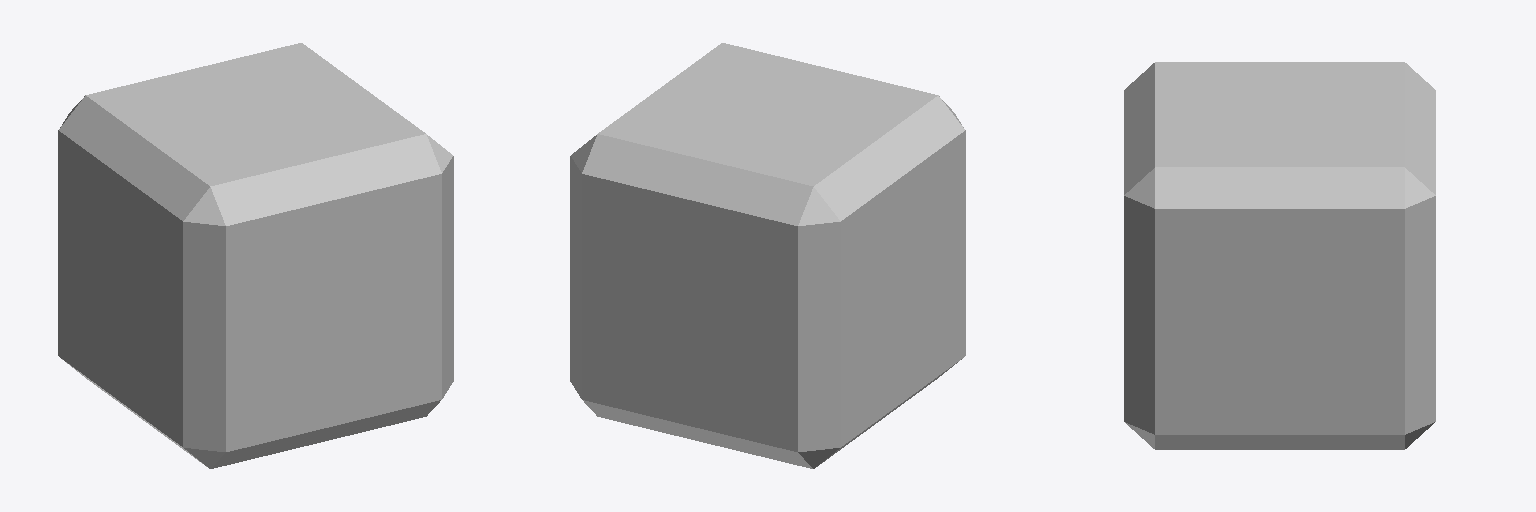
File: roundedCube.obj
3 views of the same model, side by side, from view 1: azimuth 30°, elevation 25°; view 2: azimuth 150°, elevation 25°; view 3: azimuth 270°, elevation 25° (orthographic).
Parts seen in each view (by area): view 1: pCube1; view 2: pCube1; view 3: pCube1.
Boxes of the visible parts, x1,y1,x2,y2 form: pCube1: [58, 43, 453, 468]; pCube1: [570, 43, 965, 468]; pCube1: [1124, 62, 1435, 449].
Bounding box in the file's own units: 1 × 1 × 1.